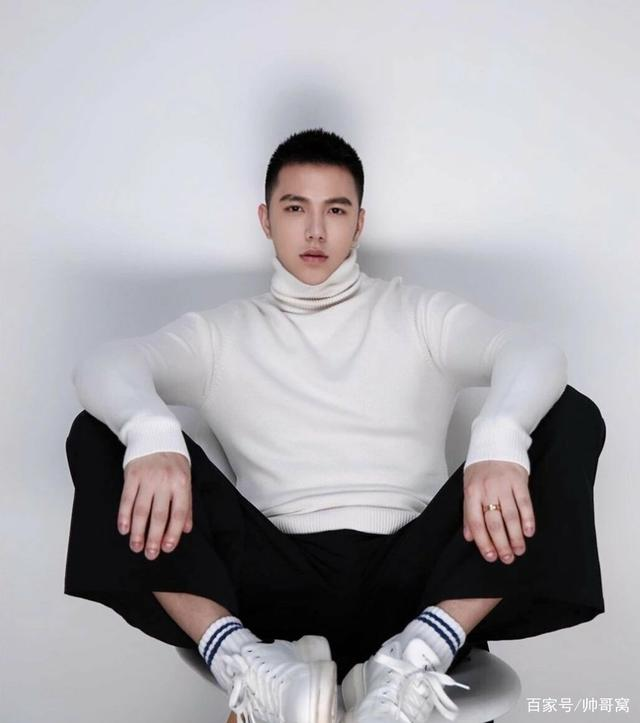person: (55, 130, 524, 698)
